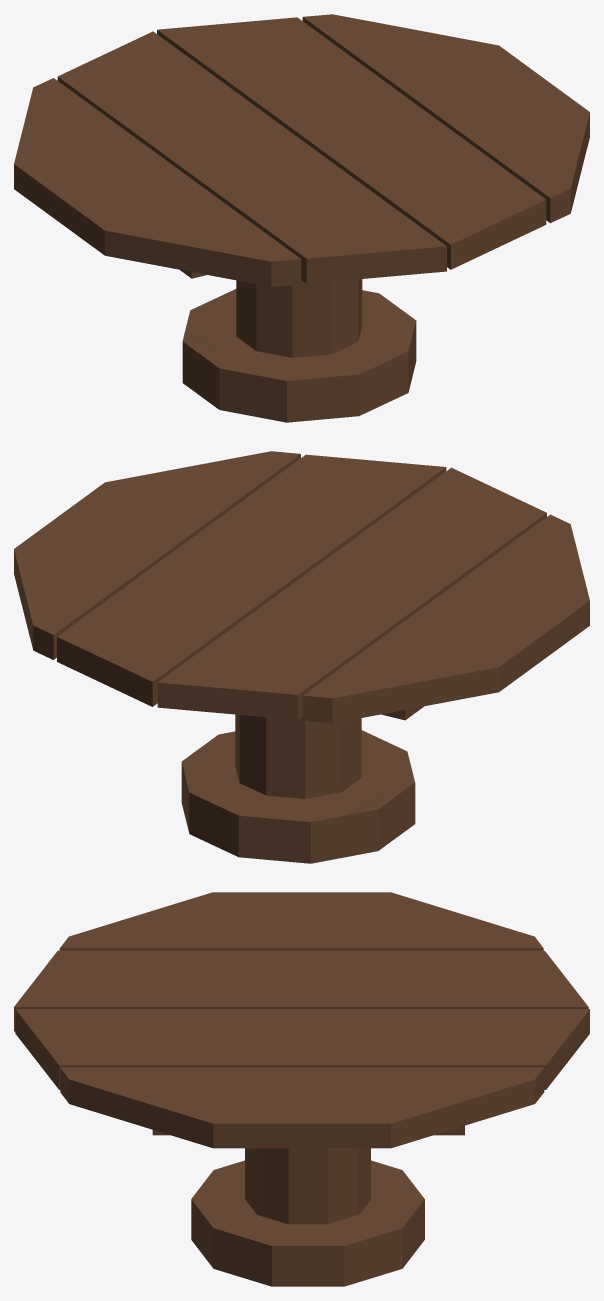
File: Round_Table.fbx
3 renders of one model, top to bottom at view 1: azimuth 30°, elevation 25°; view 2: azimuth 150°, elevation 25°; view 3: azimuth 270°, elevation 25°, orthographic. The views are drawn at different scales.
Parts seen in each view (by area): view 1: Cylinder.003; view 2: Cylinder.003; view 3: Cylinder.003.
Part boxes in pixels (bbox=[...]): Cylinder.003: bbox=[14, 14, 589, 422]; Cylinder.003: bbox=[14, 451, 589, 863]; Cylinder.003: bbox=[14, 892, 589, 1286].
Size of the model in its own units: 169 by 78.87 by 178.
Materials: 1 (1 with a texture image).
